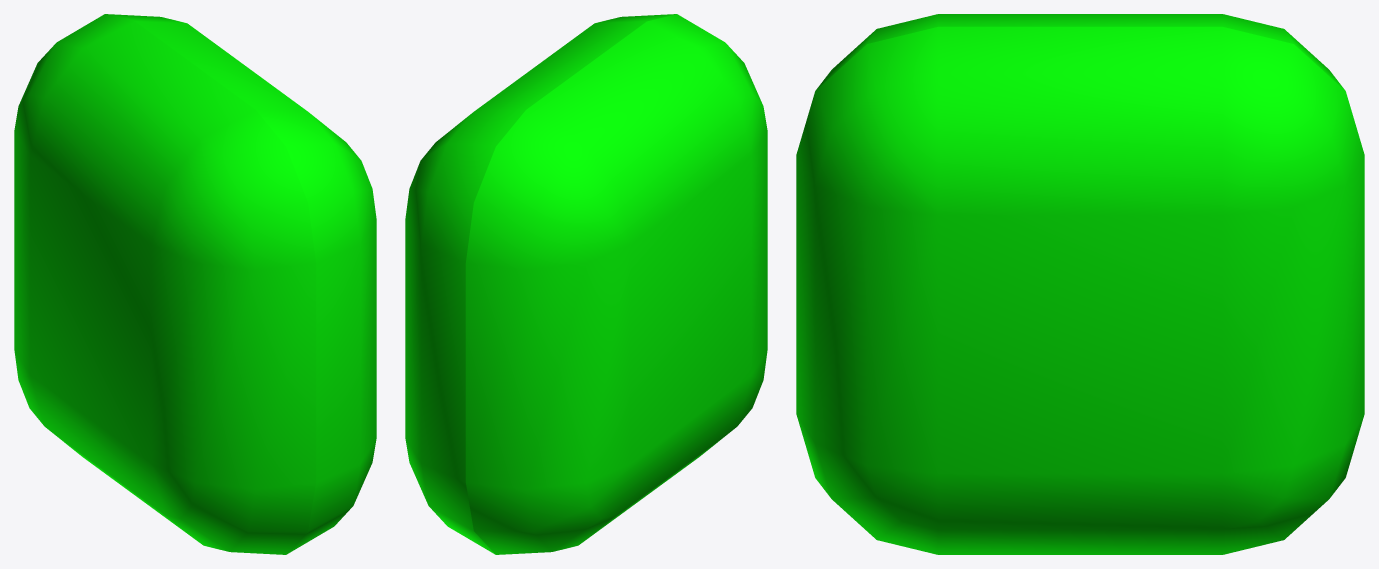
The picture shows the model from 3 angles, left to right: view 1: azimuth 30°, elevation 25°; view 2: azimuth 150°, elevation 25°; view 3: azimuth 270°, elevation 25°; orthographic projection. The views are drawn at different scales.
Visible parts, largest first — view 1: ChamferBox001; view 2: ChamferBox001; view 3: ChamferBox001.
Part boxes in pixels (box(x1,y1,x2,y2)): ChamferBox001: box(14, 14, 376, 554); ChamferBox001: box(405, 14, 767, 554); ChamferBox001: box(796, 14, 1364, 554).
Bounding box in the file's own units: 10 × 20 × 20.
